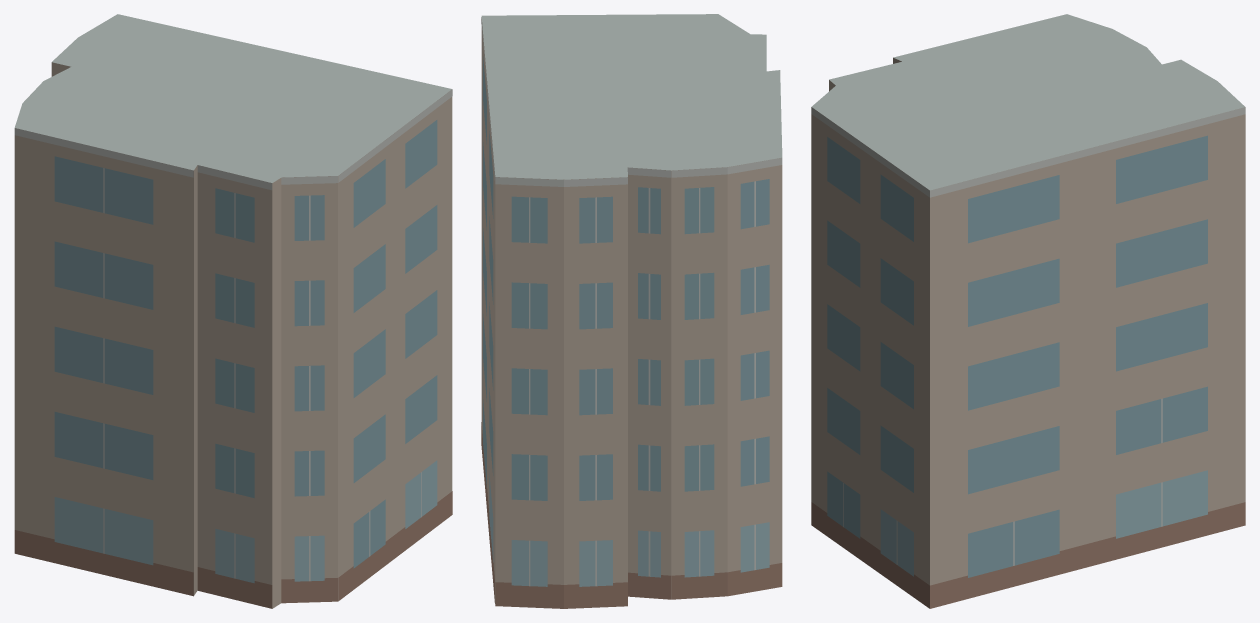
Rendered from survey-upis-32850435.glb.
The picture shows the model from 3 angles, left to right: view 1: azimuth 30°, elevation 25°; view 2: azimuth 150°, elevation 25°; view 3: azimuth 270°, elevation 25°; orthographic projection. The views are drawn at different scales.
Parts seen in each view (by area): view 1: survey-upis-32850435.tmp; view 2: survey-upis-32850435.tmp; view 3: survey-upis-32850435.tmp.
Part boxes in pixels (<box>): survey-upis-32850435.tmp: <box>14,14,452,608</box>; survey-upis-32850435.tmp: <box>481,14,782,608</box>; survey-upis-32850435.tmp: <box>811,14,1245,608</box>.
Bounding box in the file's own units: 12.95 × 14.3 × 13.46.
